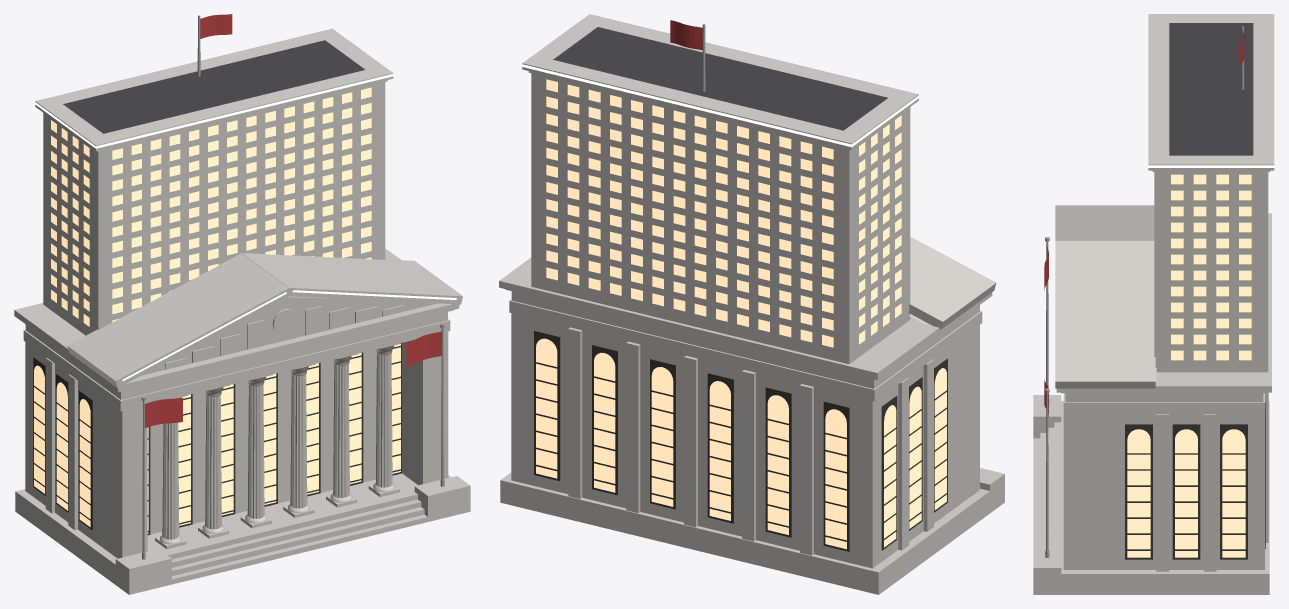
Rendered from neoclassical.glb.
The picture shows the model from 3 angles, left to right: view 1: azimuth 30°, elevation 25°; view 2: azimuth 150°, elevation 25°; view 3: azimuth 270°, elevation 25°; orthographic projection. The views are drawn at different scales.
Parts seen in each view (by area): view 1: Body_Marble, Windows, Body_Roof, Body_Trim, Crown, Body_Metal, Flag_0, Flag_1, Flag_2; view 2: Body_Marble, Windows, Body_Roof, Body_Trim, Crown, Flag_2; view 3: Body_Marble, Windows, Body_Roof, Body_Trim, Body_Metal, Crown.
Part boxes in pixels (<box>): Body_Marble: <box>14,28,470,594</box>; Windows: <box>34,87,400,533</box>; Body_Roof: <box>63,40,365,133</box>; Body_Trim: <box>33,343,401,535</box>; Crown: <box>35,73,456,381</box>; Body_Metal: <box>141,15,444,559</box>; Flag_0: <box>144,397,182,427</box>; Flag_1: <box>406,331,441,367</box>; Flag_2: <box>200,14,232,38</box>; Body_Marble: <box>499,14,1004,594</box>; Windows: <box>536,79,946,549</box>; Body_Roof: <box>553,27,910,317</box>; Body_Trim: <box>534,331,947,551</box>; Crown: <box>522,64,919,147</box>; Flag_2: <box>670,20,702,50</box>; Body_Marble: <box>1033,14,1274,594</box>; Windows: <box>1127,174,1251,557</box>; Body_Roof: <box>1169,23,1253,155</box>; Body_Trim: <box>1125,402,1265,559</box>; Body_Metal: <box>1045,26,1244,557</box>; Crown: <box>1148,15,1274,167</box>.
Size of the model in its own units: 8.96 by 11.42 by 5.19.
